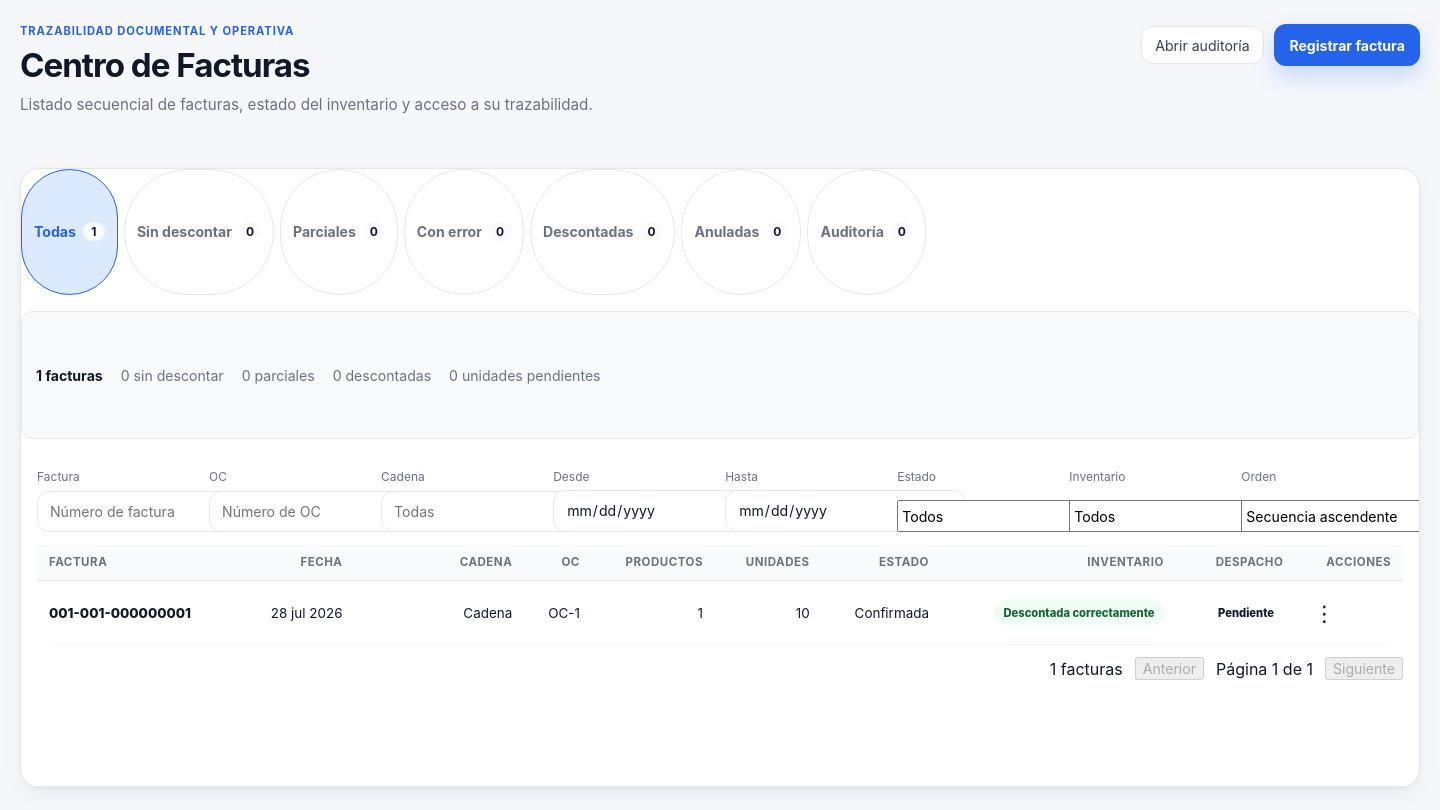
InvoiceCenter › muestra la factura como entrega pendiente y calcula la comparación
Click the text "001-001-000000001" at (120, 613), box [49,605,191,621]
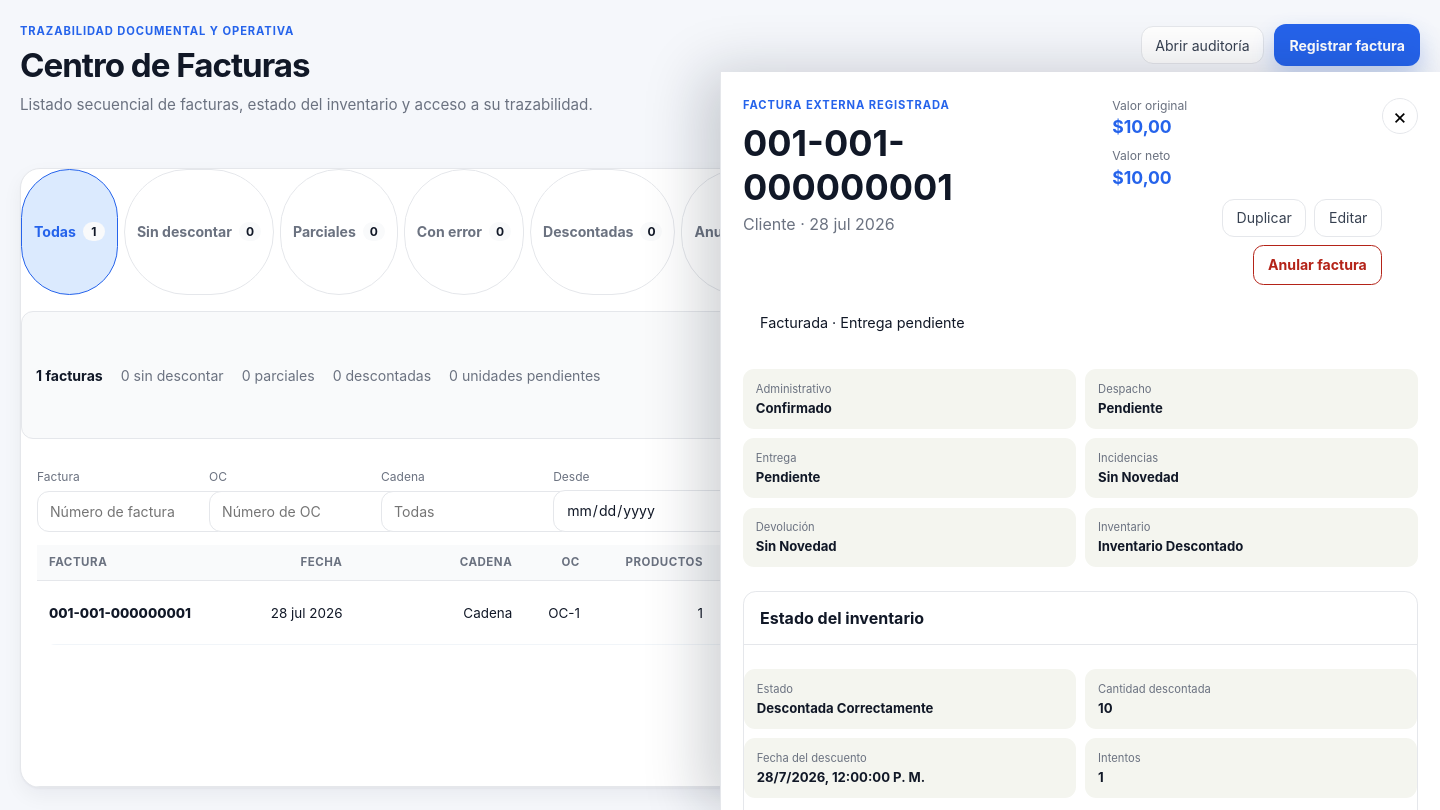
Result: the text "Facturada · Entrega pendiente" is shown at [760,314,964,331]
